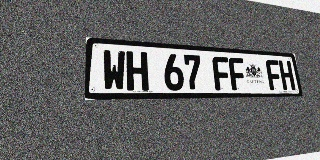6: (163, 53, 184, 91)
7: (182, 54, 203, 90)
F: (212, 56, 231, 90), (228, 57, 247, 90), (265, 60, 283, 90)
H: (126, 51, 149, 91), (278, 60, 296, 90)
W: (102, 50, 126, 91)
